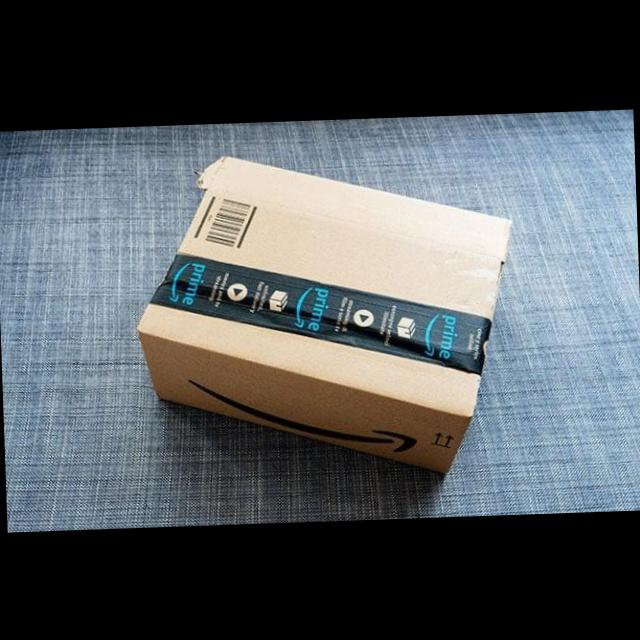box: (132, 146, 520, 488)
